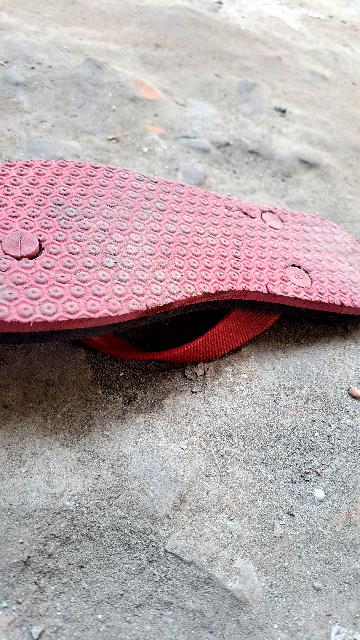sandal: (0, 119, 360, 331)
